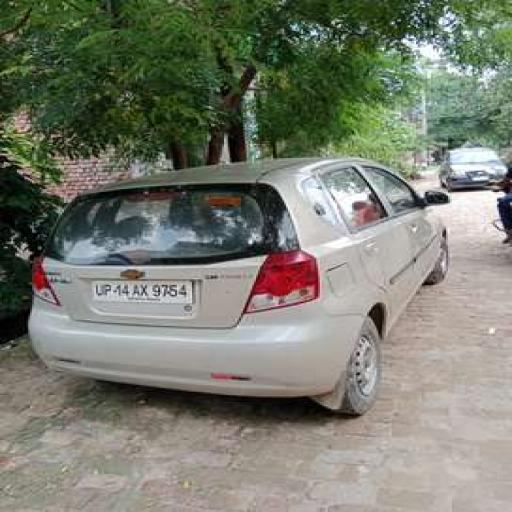license_plate`: (88, 280, 192, 300)
